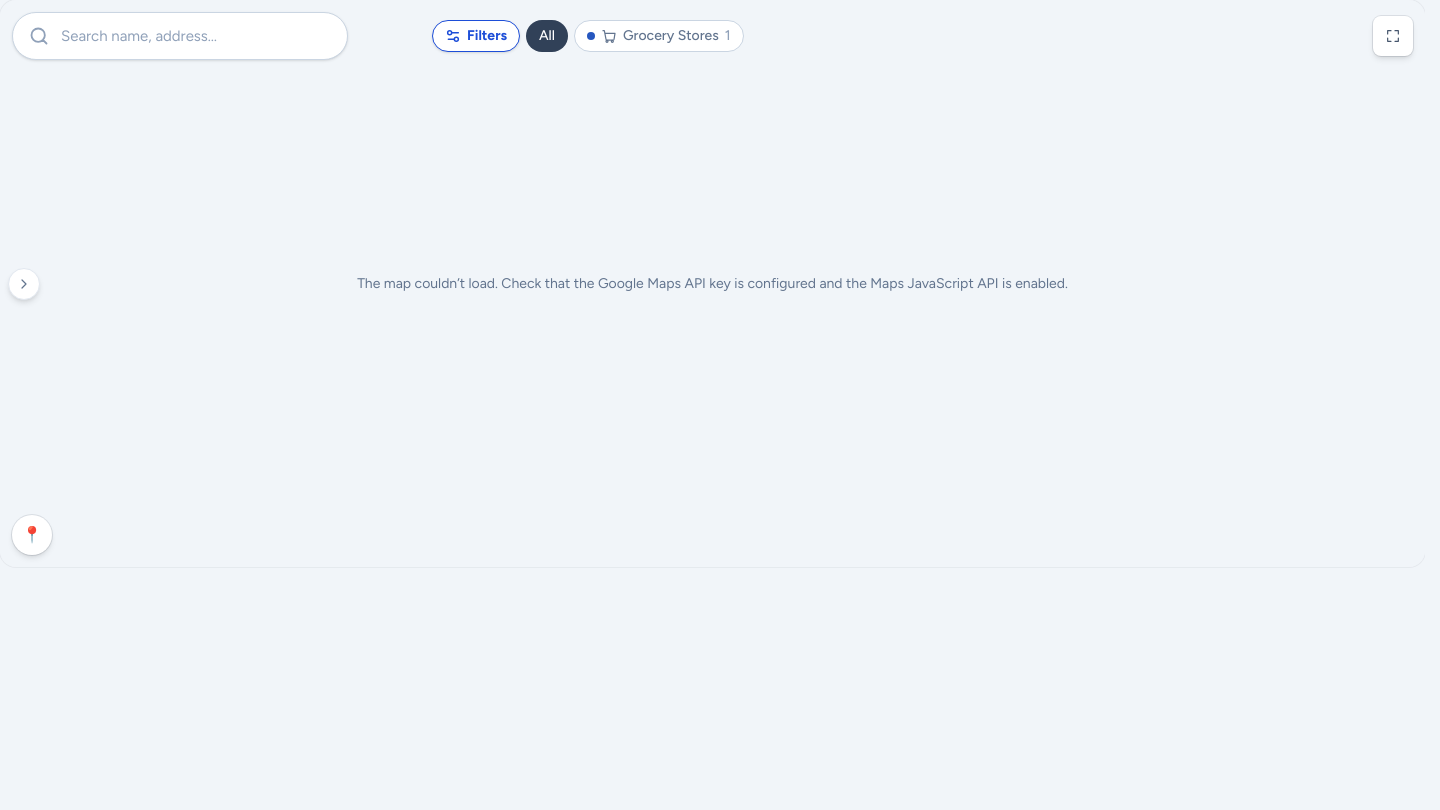
Test: ResourceMapView — search autocomplete › keeps offering "Open now" while the typed text is still heading toward it, and drops it once the text diverges
Type "ope" into the field with placeholder "Search name, address…" at (190, 36), box 49,25 -> 331,47
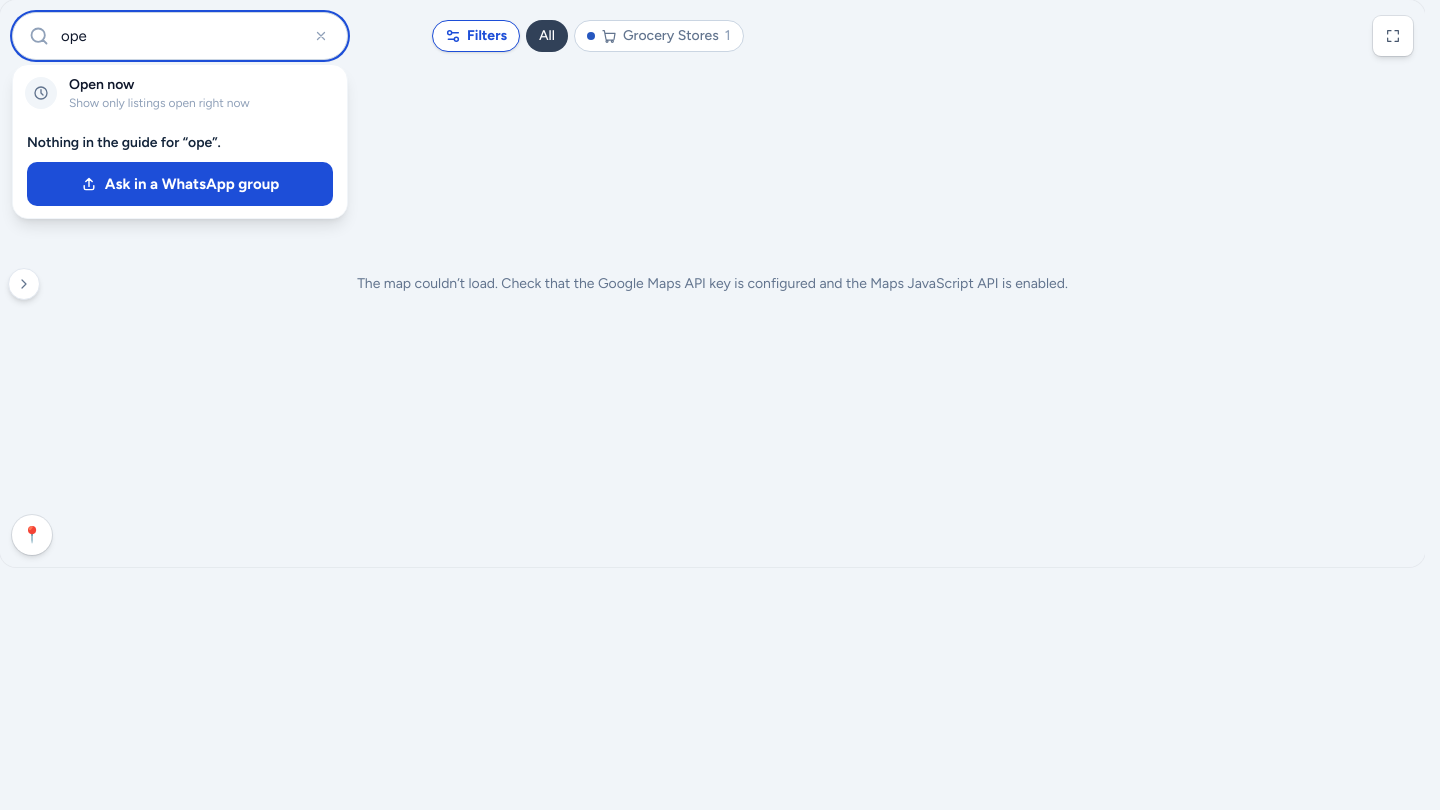
Now the text "Open now" is shown, box 69,76 -> 134,93
Type "n pizza" into the field with placeholder "Search name, address…" at (180, 36), box 49,25 -> 311,47
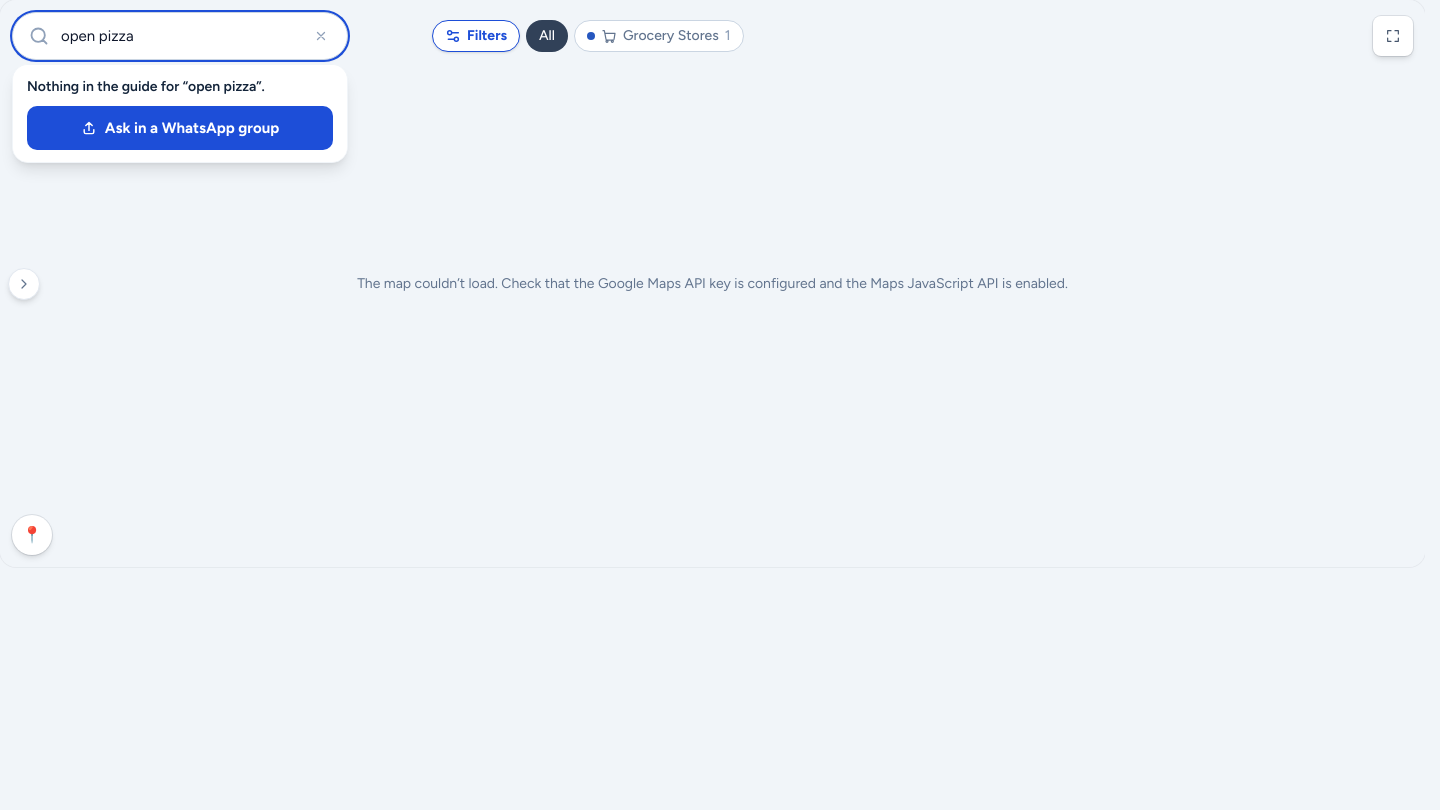
Now the button "Open now" is gone
